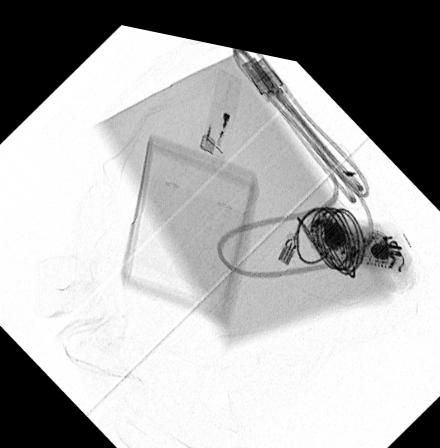Lighter: (198, 58, 241, 148)
